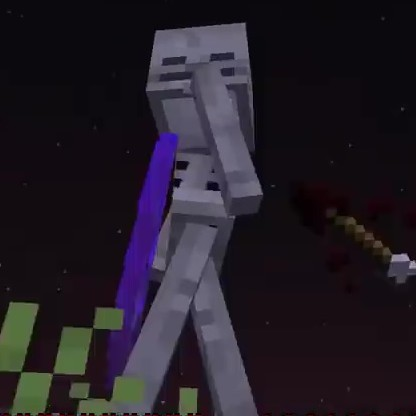skeleton: (137, 21, 260, 384)
